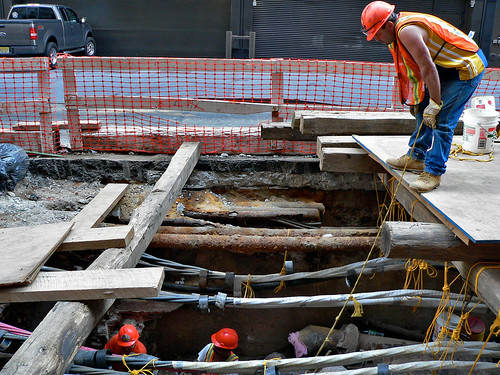person hardhat: (358, 2, 489, 197), (102, 319, 154, 375), (194, 325, 244, 375)
